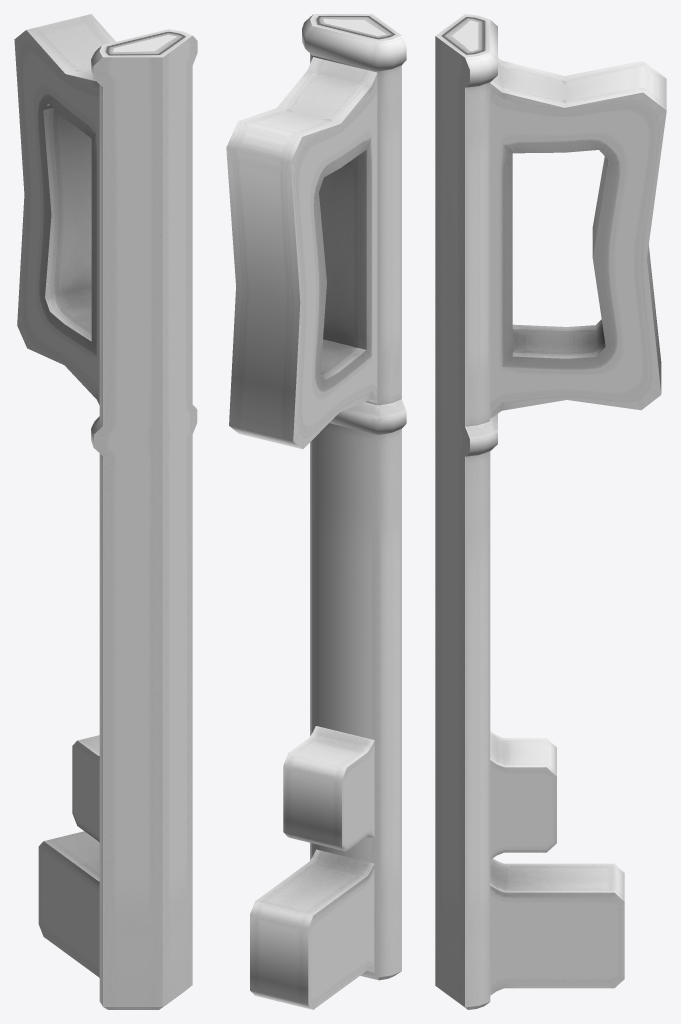
File: 227_the_Key_of_Courage.fbx
3 renders of one model, left to right at view 1: azimuth 30°, elevation 25°; view 2: azimuth 150°, elevation 25°; view 3: azimuth 270°, elevation 25°, orthographic.
Visible parts, largest first — view 1: 227_the_Key_of_Courage; view 2: 227_the_Key_of_Courage; view 3: 227_the_Key_of_Courage.
Part boxes in pixels (box(x1,y1,x2,y2)): 227_the_Key_of_Courage: box(14, 14, 197, 1009); 227_the_Key_of_Courage: box(226, 14, 406, 1009); 227_the_Key_of_Courage: box(435, 14, 666, 1009).
Size of the model in its own units: 3.42 by 30.01 by 6.59.
